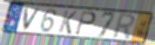6: (40, 8, 58, 33)
7: (98, 11, 116, 40)
K: (57, 9, 78, 36)
P: (74, 10, 98, 37)
R: (111, 13, 137, 42)
V: (22, 7, 42, 31)
